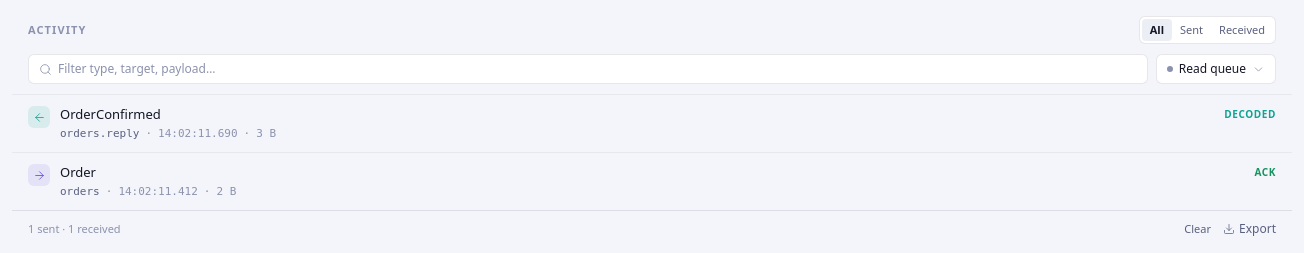
Test case: timeline › typing in the filter input hides non-matching rows
Step 1. Type "ord_1" into the search field named "Filter activity" → (597, 69), box [58,61,1137,77]
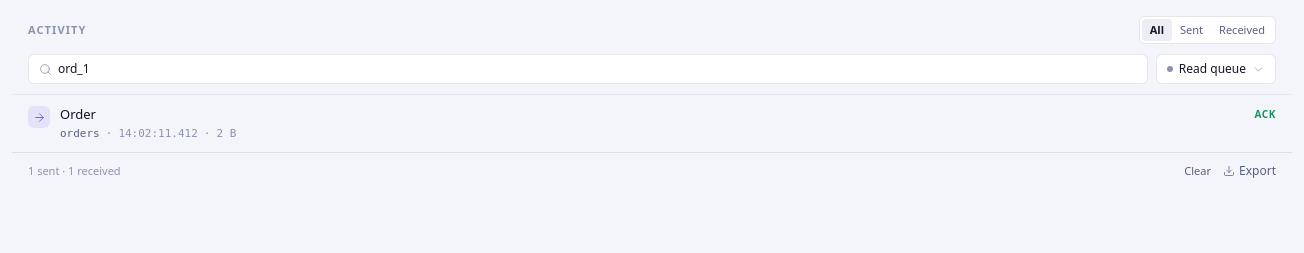
Expected: the text "Order" is shown, [60,105,96,123]
Expected: the button "OrderConfirmed" is gone
